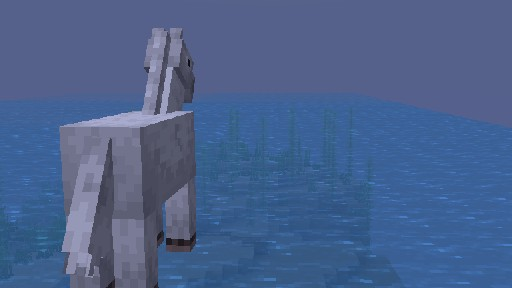horse: (58, 27, 196, 288)
